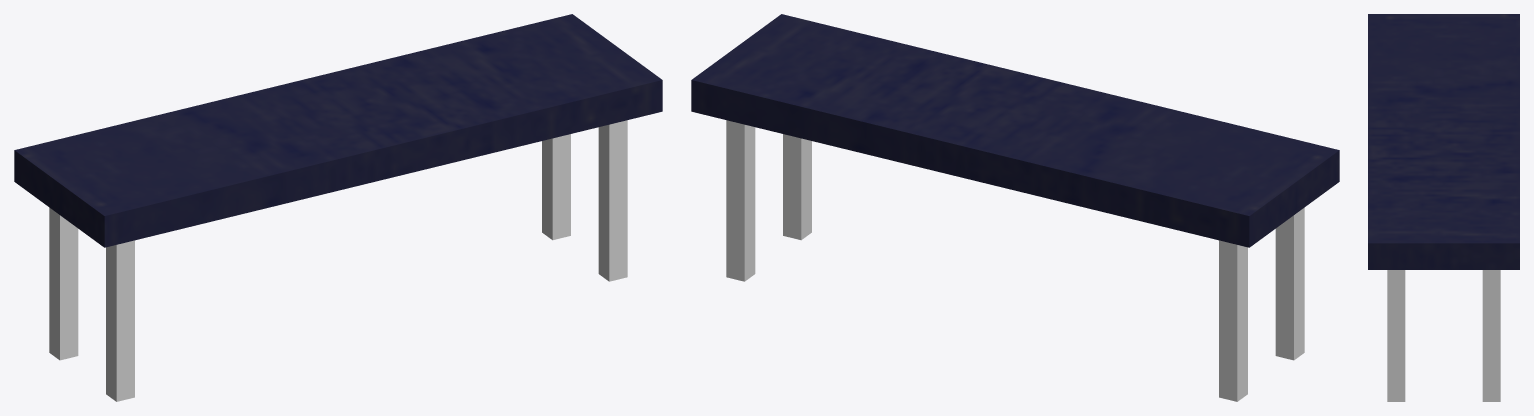
File: American_Bench.fbx
The picture shows the model from 3 angles, left to right: view 1: azimuth 30°, elevation 25°; view 2: azimuth 150°, elevation 25°; view 3: azimuth 270°, elevation 25°; orthographic projection. The views are drawn at different scales.
Visible parts, largest first — view 1: American_Bench, American_Bench.001; view 2: American_Bench, American_Bench.001; view 3: American_Bench, American_Bench.001.
Part boxes in pixels (x1=…): American_Bench: x1=14, y1=14, x2=662, y2=247; American_Bench.001: x1=49, y1=120, x2=627, y2=401; American_Bench: x1=691, y1=14, x2=1339, y2=247; American_Bench.001: x1=726, y1=120, x2=1304, y2=401; American_Bench: x1=1368, y1=14, x2=1519, y2=269; American_Bench.001: x1=1387, y1=270, x2=1500, y2=401.
Bounding box in the file's own units: 175 × 60.07 × 49.1.
1 material, 1 textured.
